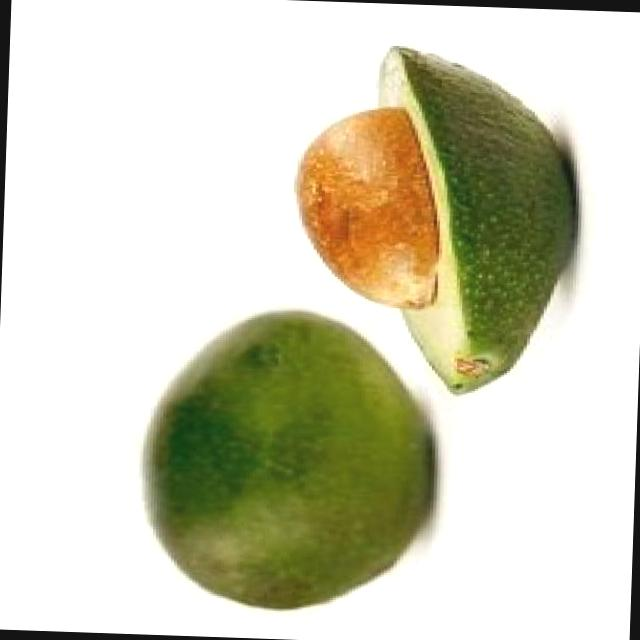avocado: (284, 49, 578, 404), (140, 302, 450, 628)
